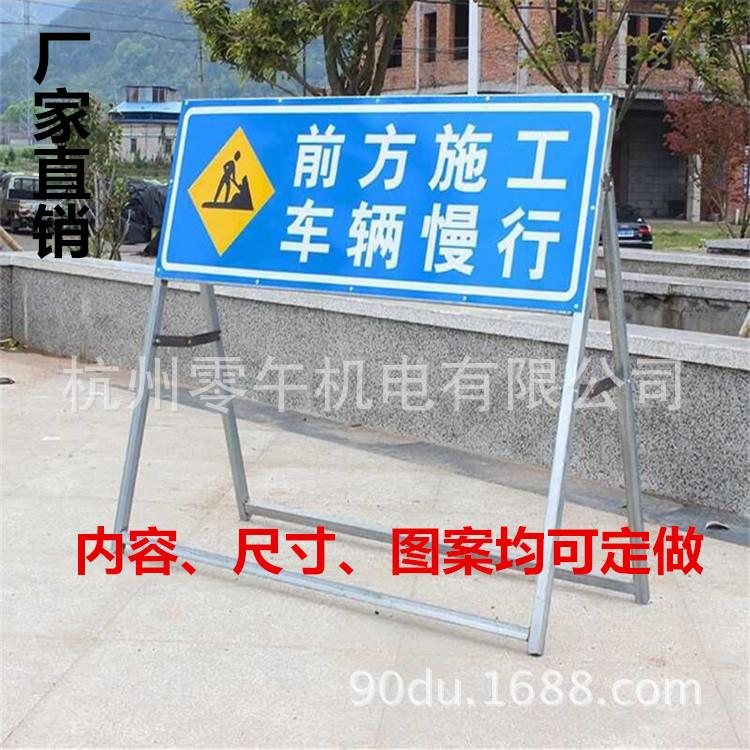sign: (172, 103, 595, 300)
